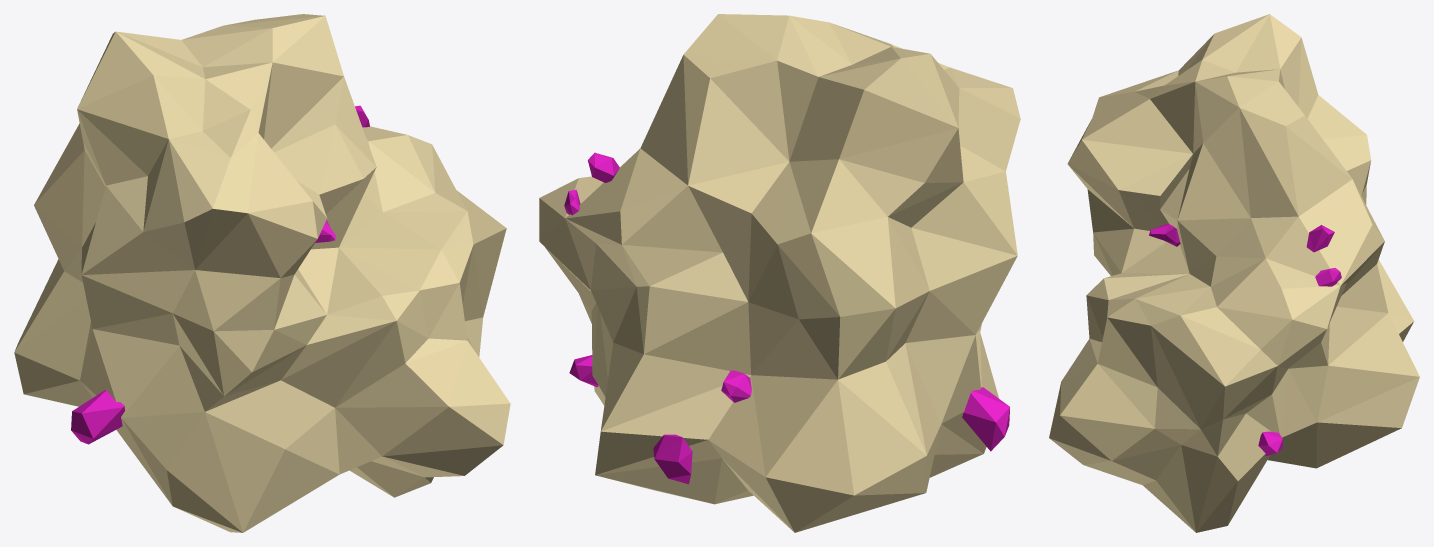
The model's file is CrystalOre (54).fbx.
3 renders of one model, left to right at view 1: azimuth 30°, elevation 25°; view 2: azimuth 150°, elevation 25°; view 3: azimuth 270°, elevation 25°, orthographic. The views are drawn at different scales.
Visible parts, largest first — view 1: Asteroid274; view 2: Asteroid274; view 3: Asteroid274.
Boxes of the visible parts, <box> form: Asteroid274: <box>14,14,510,532</box>; Asteroid274: <box>539,14,1020,532</box>; Asteroid274: <box>1049,14,1419,532</box>.
Bounding box in the file's own units: 283 × 305 × 248.
